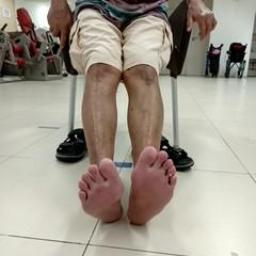Plantar View -Both Feet-: (60, 138, 193, 234)
